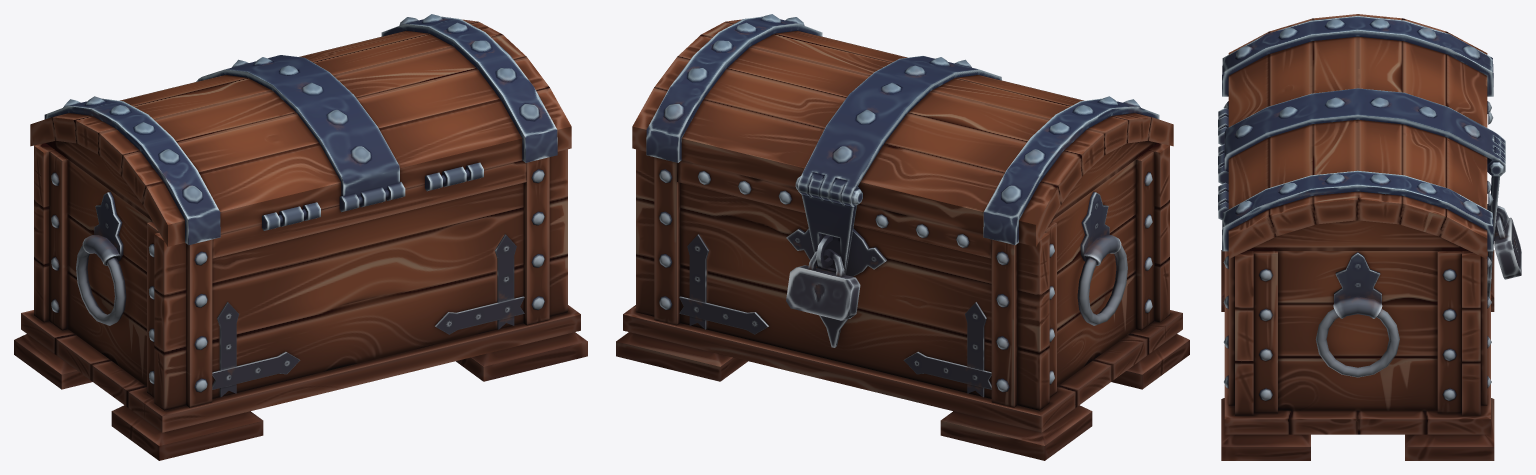
Rendered from chest.fbx.
3 renders of one model, left to right at view 1: azimuth 30°, elevation 25°; view 2: azimuth 150°, elevation 25°; view 3: azimuth 270°, elevation 25°, orthographic. The views are drawn at different scales.
Parts seen in each view (by area): view 1: chest_1_low; view 2: chest_1_low; view 3: chest_1_low.
Boxes of the visible parts, bbox=[...] form: chest_1_low: bbox=[14, 14, 587, 460]; chest_1_low: bbox=[616, 14, 1189, 460]; chest_1_low: bbox=[1218, 14, 1521, 460].
Size of the model in its own units: 133 by 83.65 by 86.51.
